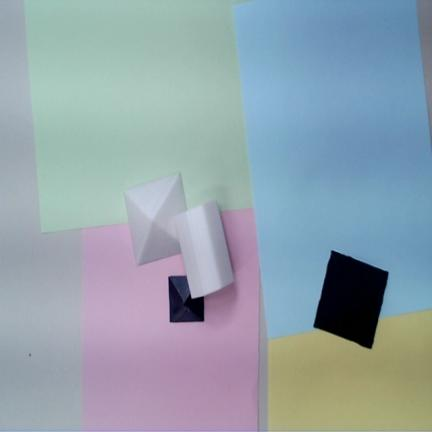Piramide: (313, 251, 389, 350), (122, 171, 187, 266), (168, 275, 205, 323)
Prisma_hexagonal: (174, 198, 235, 300)
